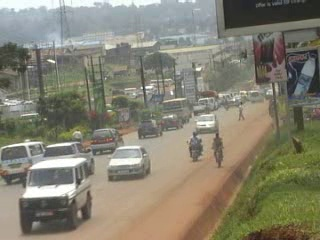Car: (16, 155, 94, 233), (38, 138, 96, 179), (105, 143, 152, 184), (89, 125, 125, 157), (136, 115, 164, 143), (192, 112, 220, 136), (160, 111, 185, 133)
Motorcycle: (184, 129, 205, 162), (221, 97, 230, 112)
